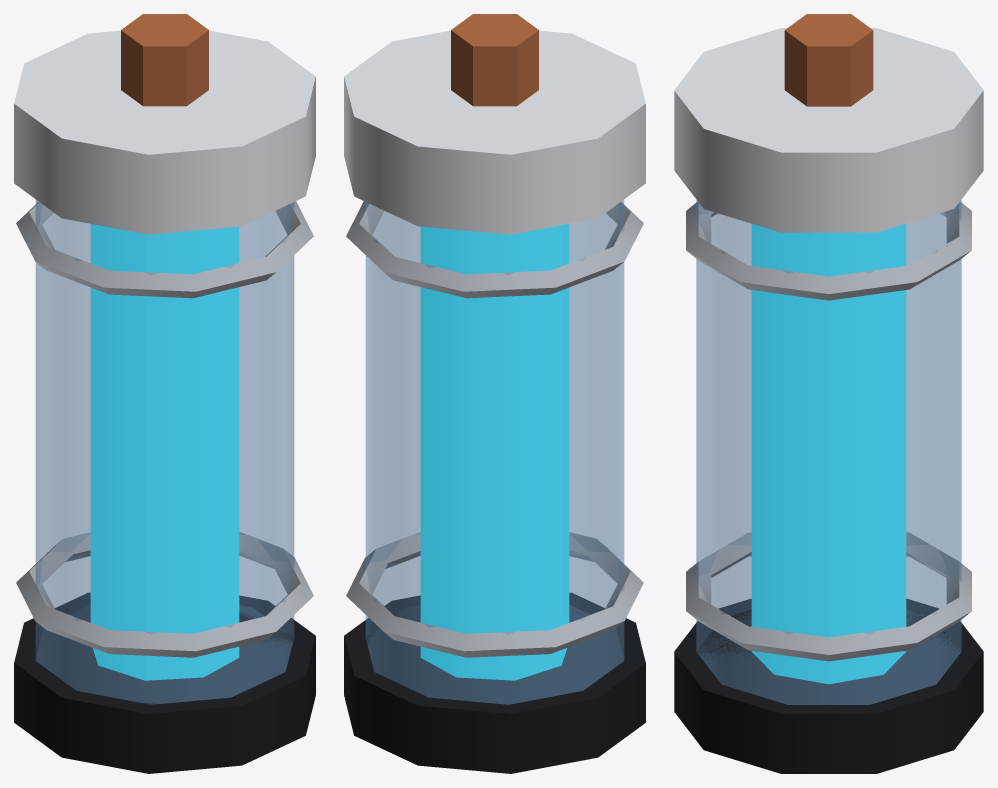
Rendered from capacitor_energy_cell.glb.
3 renders of one model, left to right at view 1: azimuth 30°, elevation 25°; view 2: azimuth 150°, elevation 25°; view 3: azimuth 270°, elevation 25°, orthographic.
Visible parts, largest first — view 1: capacitor_energy_cell; view 2: capacitor_energy_cell; view 3: capacitor_energy_cell.
Part boxes in pixels (x1,y1,x2,y2): capacitor_energy_cell: (14, 14, 315, 773); capacitor_energy_cell: (344, 14, 645, 773); capacitor_energy_cell: (674, 14, 983, 773).
Size of the model in its own units: 0.136 by 0.34 by 0.14.
